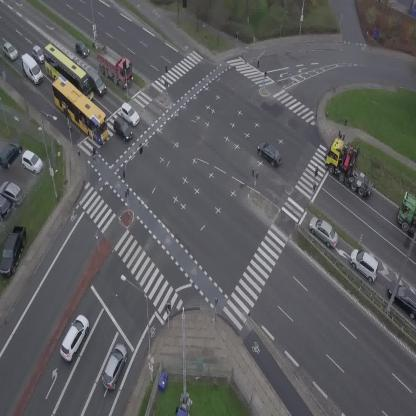bicycle: (90, 147, 97, 161)
bus: (43, 74, 118, 146), (33, 42, 102, 105)
car: (55, 312, 94, 362), (97, 341, 131, 392), (344, 245, 386, 283), (304, 212, 344, 249), (253, 138, 286, 169), (116, 101, 143, 128), (108, 116, 135, 143), (86, 67, 109, 96), (70, 38, 92, 60), (0, 41, 21, 63), (32, 45, 43, 64), (69, 54, 78, 63)
lorry: (316, 133, 390, 201), (87, 41, 142, 91), (15, 51, 47, 88), (397, 192, 416, 236)
